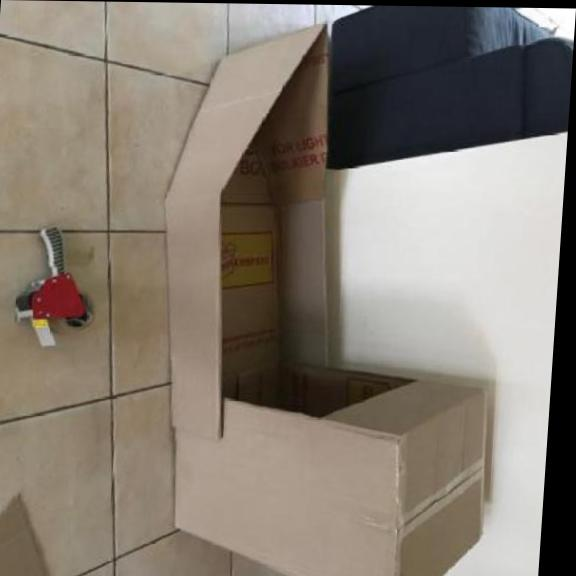Kertas: (166, 26, 485, 575), (0, 498, 47, 575)
